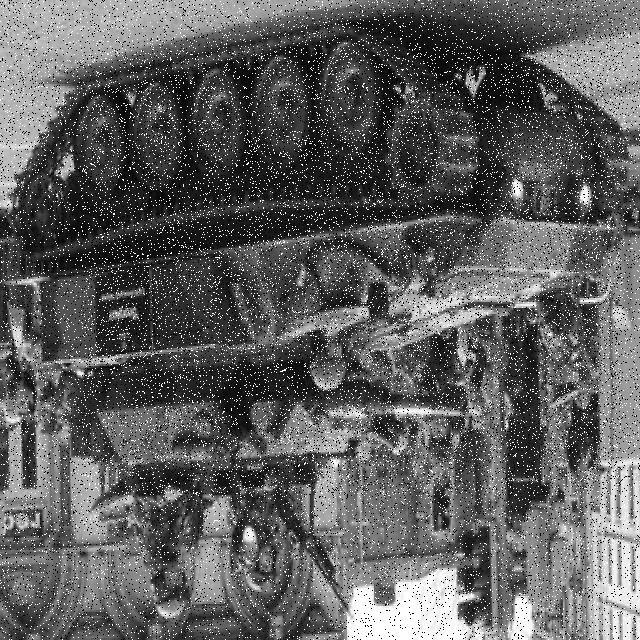MIL_MBT: (81, 50, 622, 495)
